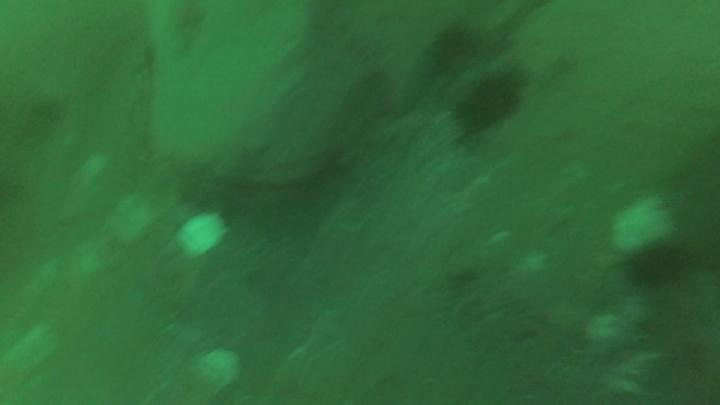echinus: (455, 66, 524, 144), (425, 19, 493, 84), (627, 238, 685, 289)
scallop: (611, 194, 674, 251), (180, 343, 240, 401), (179, 210, 228, 261), (106, 196, 154, 246)
